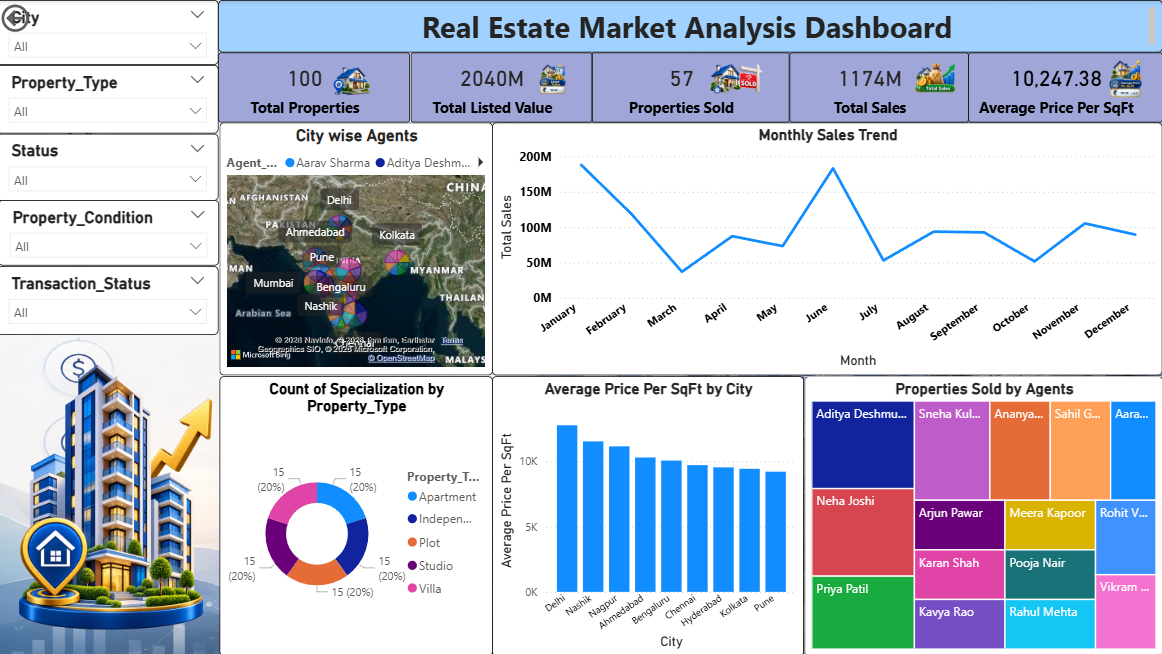

Layout of this report page (visuals, bound fields, positions):
{"tool":"powerbi","page":{"name":"Page 1","canvas":[1280,720],"ordinal":0},"visuals":[{"type":"image","box":[0,0,1280.3,720.4],"z":0},{"type":"textbox","box":[243.3,0,1037,57.5],"z":1000},{"type":"card","fields":{"Values":["Properties.Total Properties"]},"box":[243,57.5,210.3,77],"z":2000},{"type":"card","fields":{"Values":["Properties.Total Listed Value"]},"box":[453.7,57.5,199.3,77],"z":3000},{"type":"card","fields":{"Values":["Properties.Properties Sold"]},"box":[653,57.5,216.4,77],"z":4000},{"type":"card","fields":{"Values":["Properties.Total Sales"]},"box":[869.4,57.5,196.9,77],"z":5000},{"type":"card","fields":{"Values":["Properties.Average Price Per SqFt"]},"box":[1066.3,57.5,214,77],"z":6000},{"type":"slicer","fields":{"Values":["Agents.City"]},"box":[0,0,243.3,71.1],"z":7000},{"type":"slicer","fields":{"Values":["Properties.Property_Type"]},"box":[0,71.1,243.3,75.6],"z":8000},{"type":"slicer","fields":{"Values":["Properties.Status"]},"box":[0,146.7,243.3,73.3],"z":9000},{"type":"slicer","fields":{"Values":["Properties.Property_Condition"]},"box":[1.1,220,242.2,72.2],"z":10000},{"type":"slicer","fields":{"Values":["Transactions.Transaction_Status"]},"box":[0,292.2,243.3,75.6],"z":11000},{"type":"columnChart","fields":{"Y":["Properties.Average Price Per SqFt"],"Category":["Agents.City"]},"box":[543.8,412.5,342.5,307.5],"z":12000},{"type":"treemap","title":"Properties Sold by Agents","fields":{"Group":["Agents.Agent_Name"],"Values":["Properties.Properties Sold"]},"box":[886.2,412.5,393.8,307.5],"z":13000},{"type":"map","title":"City wise Agents ","fields":{"Category":["Properties.City"],"Series":["Agents.Agent_Name"]},"box":[243.8,135,300,277.5],"z":14000},{"type":"donutChart","fields":{"Category":["Properties.Property_Type"],"Y":["CountNonNull(Agents.Specialization)"]},"box":[243.8,412.5,300,307.5],"z":15000},{"type":"lineChart","title":"Monthly Sales Trend","fields":{"Y":["Properties.Total Sales"],"Category":["Transactions.Transaction_Date.Variation.Date Hierarchy.Month"]},"box":[543.8,135,736.2,277.5],"z":16000},{"type":"actionButton","box":[0,0,100,40],"z":17000},{"type":"image","box":[360,71.2,57.5,35],"z":18000},{"type":"image","box":[1003.8,66.2,52.5,38.8],"z":19000},{"type":"image","box":[770,66.2,82.5,40],"z":20000},{"type":"image","box":[1210.6,62.4,56.3,47.7],"z":21000},{"type":"image","box":[578.4,62.4,61.1,44],"z":22000},{"type":"image","box":[0,368.1,243.3,352.2],"z":23000}]}

Visuals, with their boxes on the page's 1280x720 design canvas (x1, y1, x2, y2). These are canvas units, not pixel positions in the 1162x654 screenshot, which may show the page scaled, cropped or inside an application window:
image: (x1=0, y1=0, x2=1280, y2=720)
textbox: (x1=243, y1=0, x2=1280, y2=58)
card - Properties.Total Properties: (x1=243, y1=58, x2=453, y2=134)
card - Properties.Total Listed Value: (x1=454, y1=58, x2=653, y2=134)
card - Properties.Properties Sold: (x1=653, y1=58, x2=869, y2=134)
card - Properties.Total Sales: (x1=869, y1=58, x2=1066, y2=134)
card - Properties.Average Price Per SqFt: (x1=1066, y1=58, x2=1280, y2=134)
slicer - Agents.City: (x1=0, y1=0, x2=243, y2=71)
slicer - Properties.Property_Type: (x1=0, y1=71, x2=243, y2=147)
slicer - Properties.Status: (x1=0, y1=147, x2=243, y2=220)
slicer - Properties.Property_Condition: (x1=1, y1=220, x2=243, y2=292)
slicer - Transactions.Transaction_Status: (x1=0, y1=292, x2=243, y2=368)
columnChart - Properties.Average Price Per SqFt x Agents.City: (x1=544, y1=412, x2=886, y2=720)
"Properties Sold by Agents" treemap: (x1=886, y1=412, x2=1280, y2=720)
"City wise Agents " map: (x1=244, y1=135, x2=544, y2=412)
donutChart - Properties.Property_Type x CountNonNull(Agents.Specialization): (x1=244, y1=412, x2=544, y2=720)
"Monthly Sales Trend" lineChart: (x1=544, y1=135, x2=1280, y2=412)
actionButton: (x1=0, y1=0, x2=100, y2=40)
image: (x1=360, y1=71, x2=418, y2=106)
image: (x1=1004, y1=66, x2=1056, y2=105)
image: (x1=770, y1=66, x2=852, y2=106)
image: (x1=1211, y1=62, x2=1267, y2=110)
image: (x1=578, y1=62, x2=640, y2=106)
image: (x1=0, y1=368, x2=243, y2=720)
